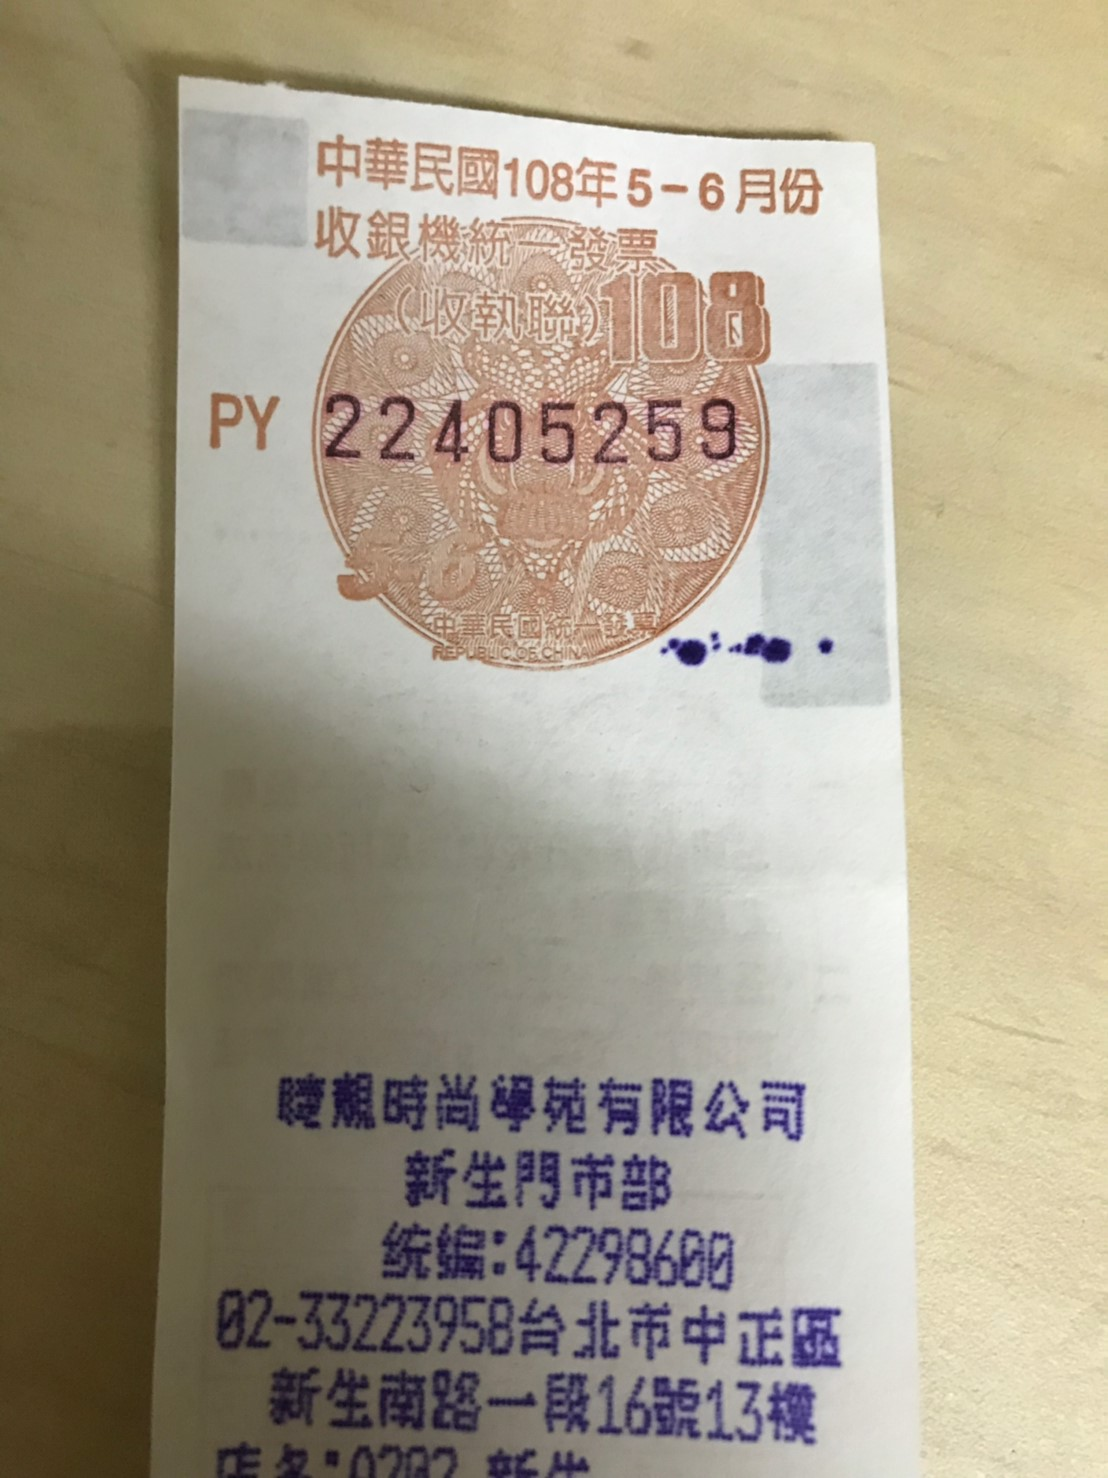Date_Old: (504, 155, 829, 218)
Number_Old: (318, 388, 748, 474)
